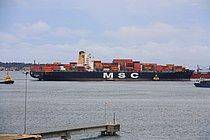Ship: (25, 50, 197, 84)
